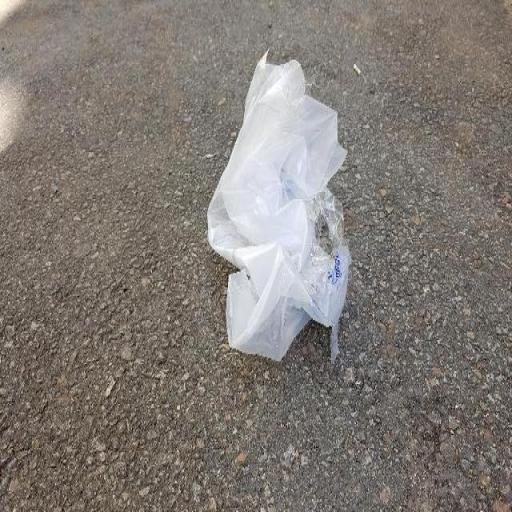plastic-bag: (204, 45, 352, 370)
